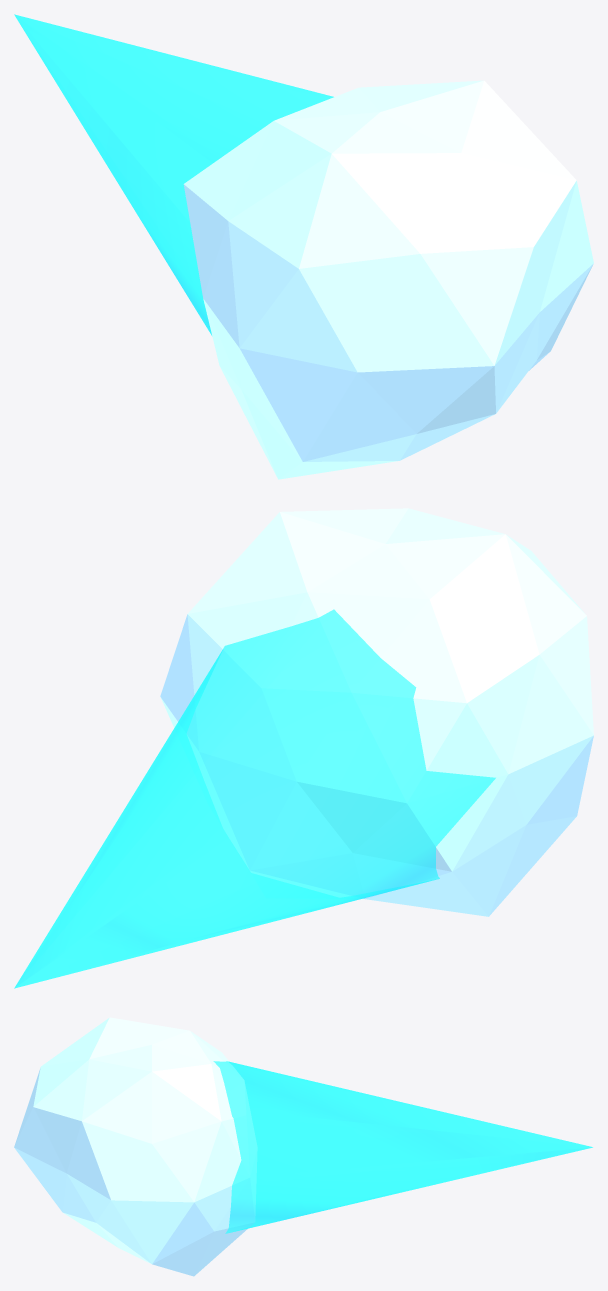
The model's file is fx_boulder_f.glb.
The picture shows the model from 3 angles, top to bottom: view 1: azimuth 30°, elevation 25°; view 2: azimuth 150°, elevation 25°; view 3: azimuth 270°, elevation 25°; orthographic projection. The views are drawn at different scales.
Visible parts, largest first — view 1: fx_boulder_f; view 2: fx_boulder_f; view 3: fx_boulder_f.
Part boxes in pixels (x1,y1,x2,y2): fx_boulder_f: (14,14,593,479); fx_boulder_f: (14,508,593,988); fx_boulder_f: (14,1017,592,1276).
Size of the model in its own units: 0.9082 by 0.8439 by 2.1.
